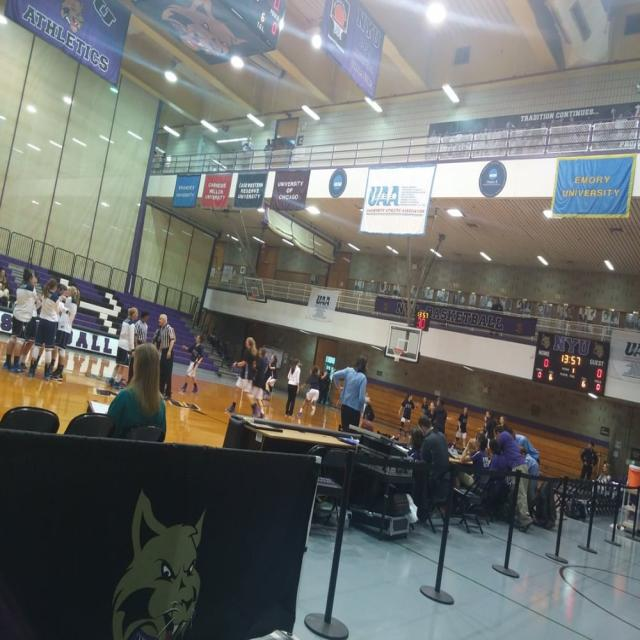body: (346, 274, 640, 329), (428, 108, 638, 158), (407, 388, 449, 523), (108, 342, 168, 434), (478, 408, 540, 497), (492, 423, 533, 532), (1, 266, 39, 374), (27, 276, 62, 384), (331, 354, 372, 432), (225, 334, 261, 422), (49, 280, 80, 382), (453, 430, 491, 511), (107, 304, 139, 390), (144, 312, 177, 395), (20, 272, 42, 369), (295, 364, 328, 418), (178, 332, 206, 395), (127, 309, 150, 383), (157, 312, 175, 401), (248, 346, 268, 420), (283, 356, 301, 420), (308, 364, 334, 406), (396, 391, 416, 442), (261, 352, 279, 400), (587, 461, 611, 497), (451, 404, 468, 452), (580, 441, 599, 482), (0, 264, 12, 313), (240, 134, 253, 171), (263, 137, 273, 170), (153, 150, 167, 172), (226, 146, 236, 170), (262, 351, 269, 365), (269, 137, 274, 152)
